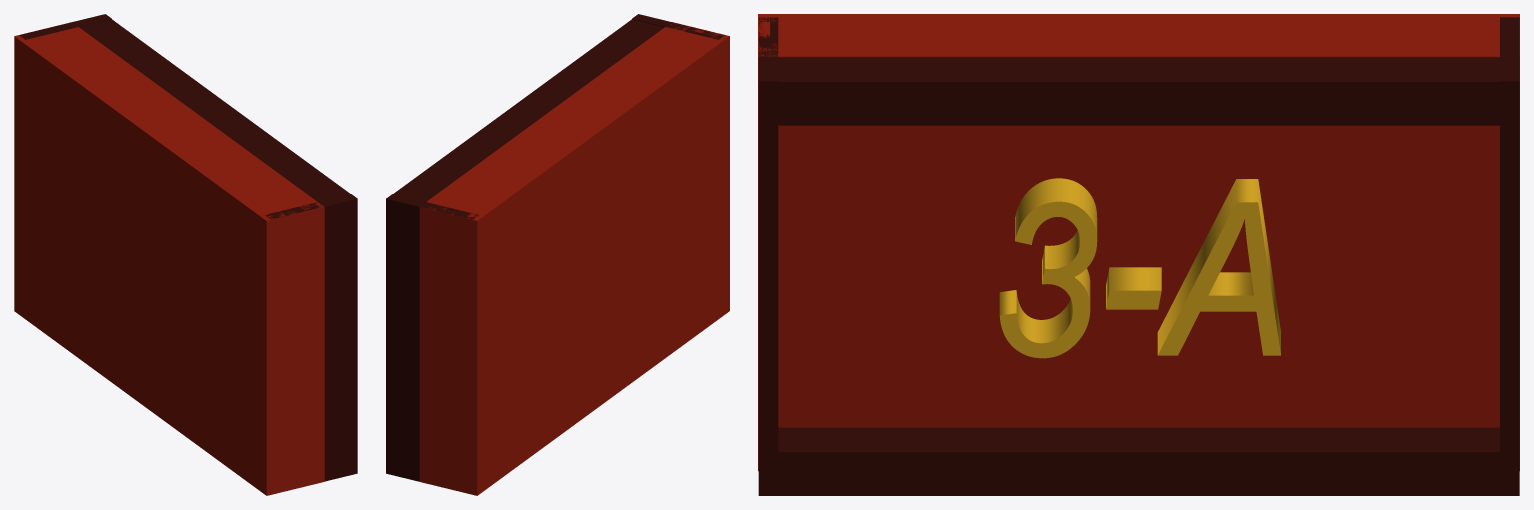
3 views of the same model, side by side, from view 1: azimuth 30°, elevation 25°; view 2: azimuth 150°, elevation 25°; view 3: azimuth 270°, elevation 25° (orthographic). The views are drawn at different scales.
Parts seen in each view (by area): view 1: Text; view 2: Text; view 3: Text.
Part boxes in pixels (<box>): Text: <box>14,14,357,495</box>; Text: <box>386,14,729,495</box>; Text: <box>758,14,1519,495</box>.
Bounding box in the file's own units: 69.49 × 200 × 333.
